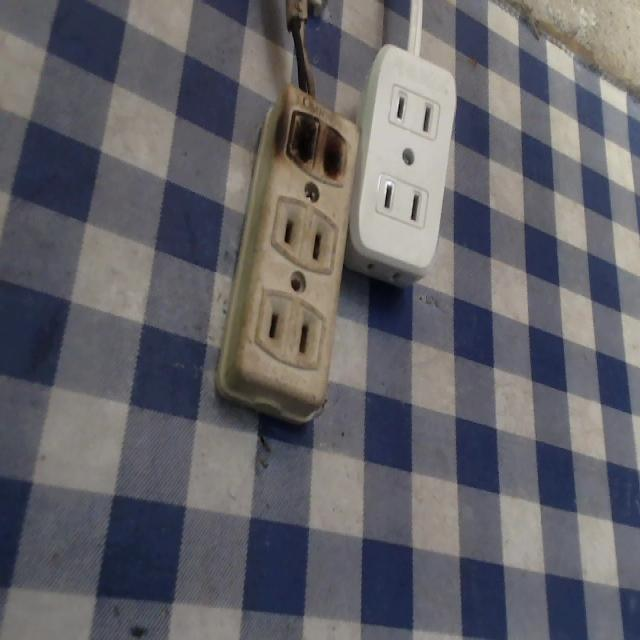-: (281, 96, 355, 191)
